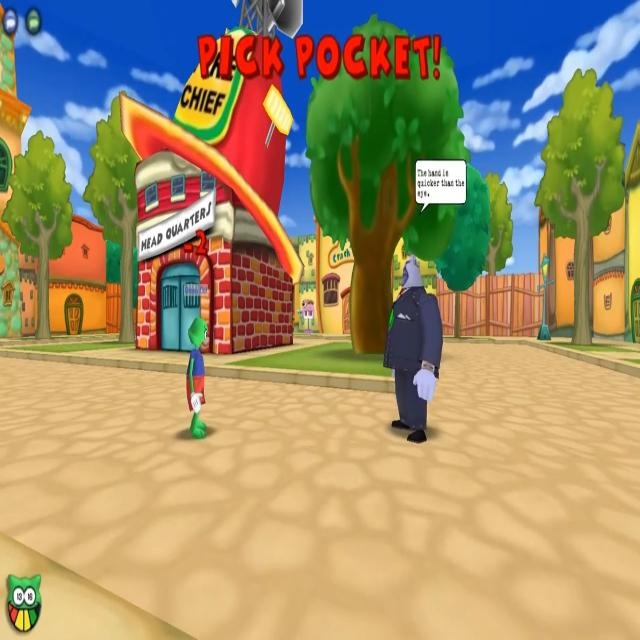bottomfeeder: (378, 164, 470, 436)
